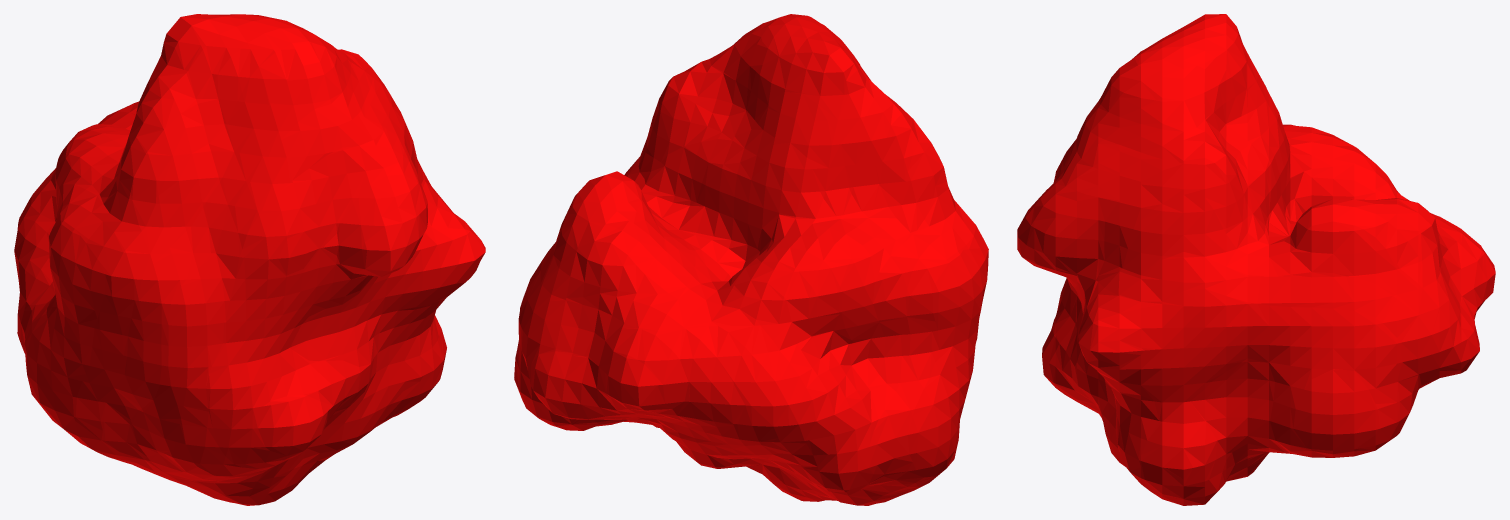
File: thiD_coarse.dae
The picture shows the model from 3 angles, left to right: view 1: azimuth 30°, elevation 25°; view 2: azimuth 150°, elevation 25°; view 3: azimuth 270°, elevation 25°; orthographic projection. The views are drawn at different scales.
Parts seen in each view (by area): view 1: thiD; view 2: thiD; view 3: thiD.
Boxes of the visible parts, bbox=[...] form: thiD: bbox=[14, 14, 485, 505]; thiD: bbox=[514, 14, 988, 505]; thiD: bbox=[1017, 14, 1495, 505].
Bounding box in the file's own units: 45.67 × 54.84 × 52.46.
